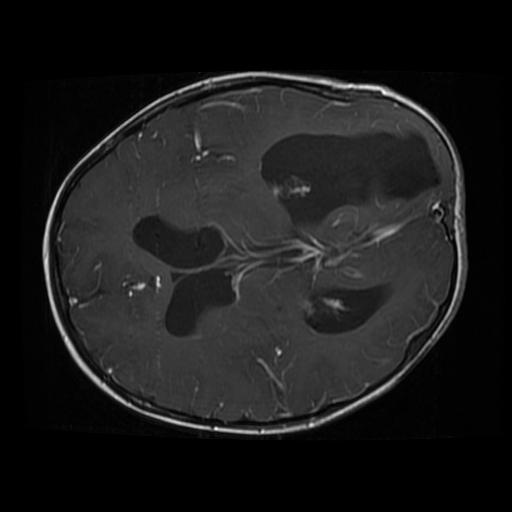glioma: (255, 131, 438, 228)
